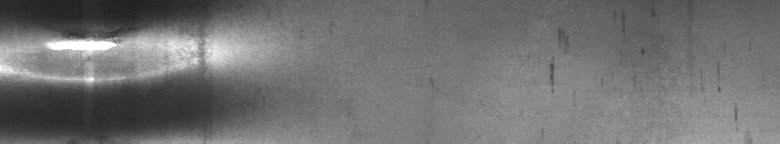ke: (4, 20, 212, 136)
